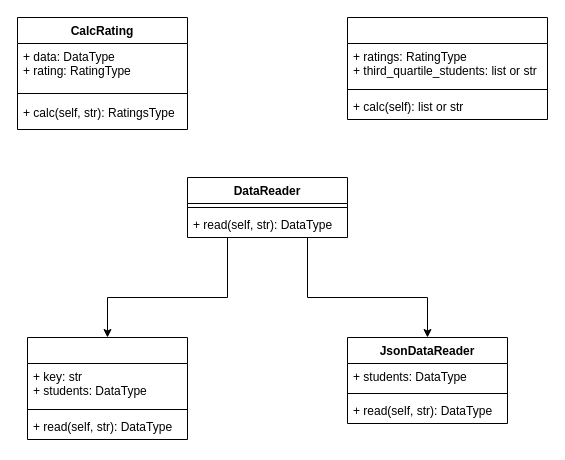
Image size: 565x460. Some labels were removed from this diagram. Each missing label, with the box of its shape:
CalcThirdQuartile: (346, 16, 548, 120)
TextDataReader: (26, 336, 188, 440)
